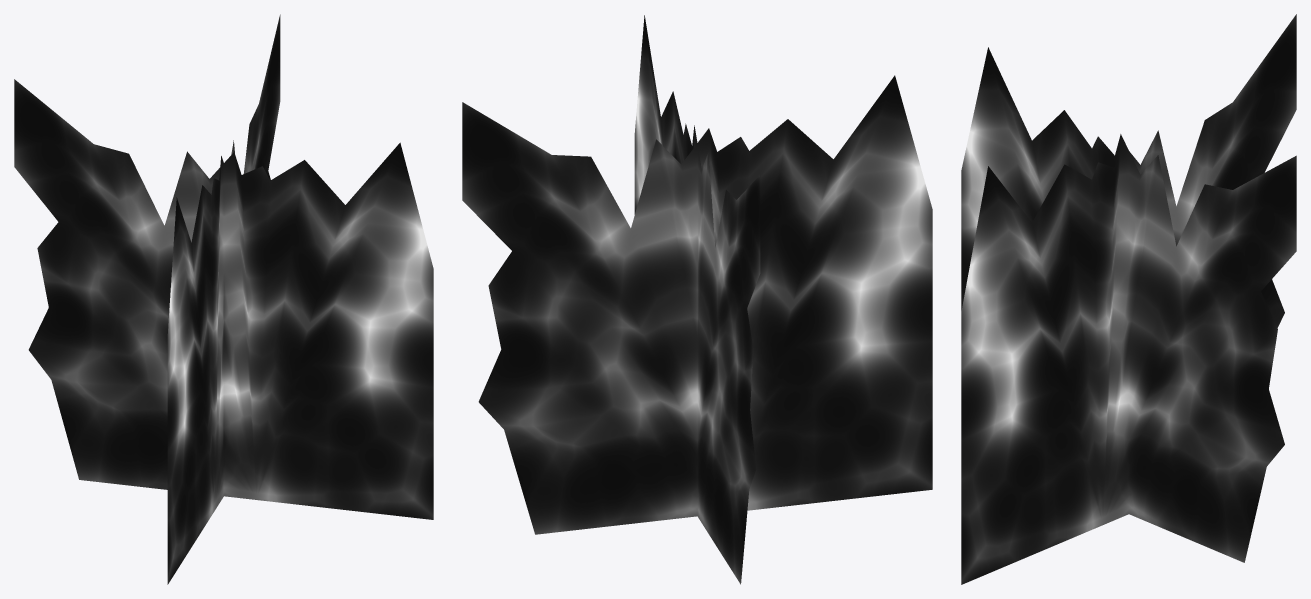
File: SM_GrassLungo_01.fbx
3 views of the same model, side by side, from view 1: azimuth 30°, elevation 25°; view 2: azimuth 150°, elevation 25°; view 3: azimuth 270°, elevation 25° (orthographic). The views are drawn at different scales.
Visible parts, largest first — view 1: SM_GrassLungo_01_LOD0; view 2: SM_GrassLungo_01_LOD0; view 3: SM_GrassLungo_01_LOD0.
Boxes of the visible parts, x1=… form: SM_GrassLungo_01_LOD0: x1=14, y1=14, x2=433, y2=584; SM_GrassLungo_01_LOD0: x1=462, y1=15, x2=932, y2=584; SM_GrassLungo_01_LOD0: x1=961, y1=14, x2=1296, y2=584.
Bounding box in the file's own units: 70.71 × 70.71 × 100.
1 material, 1 textured.
